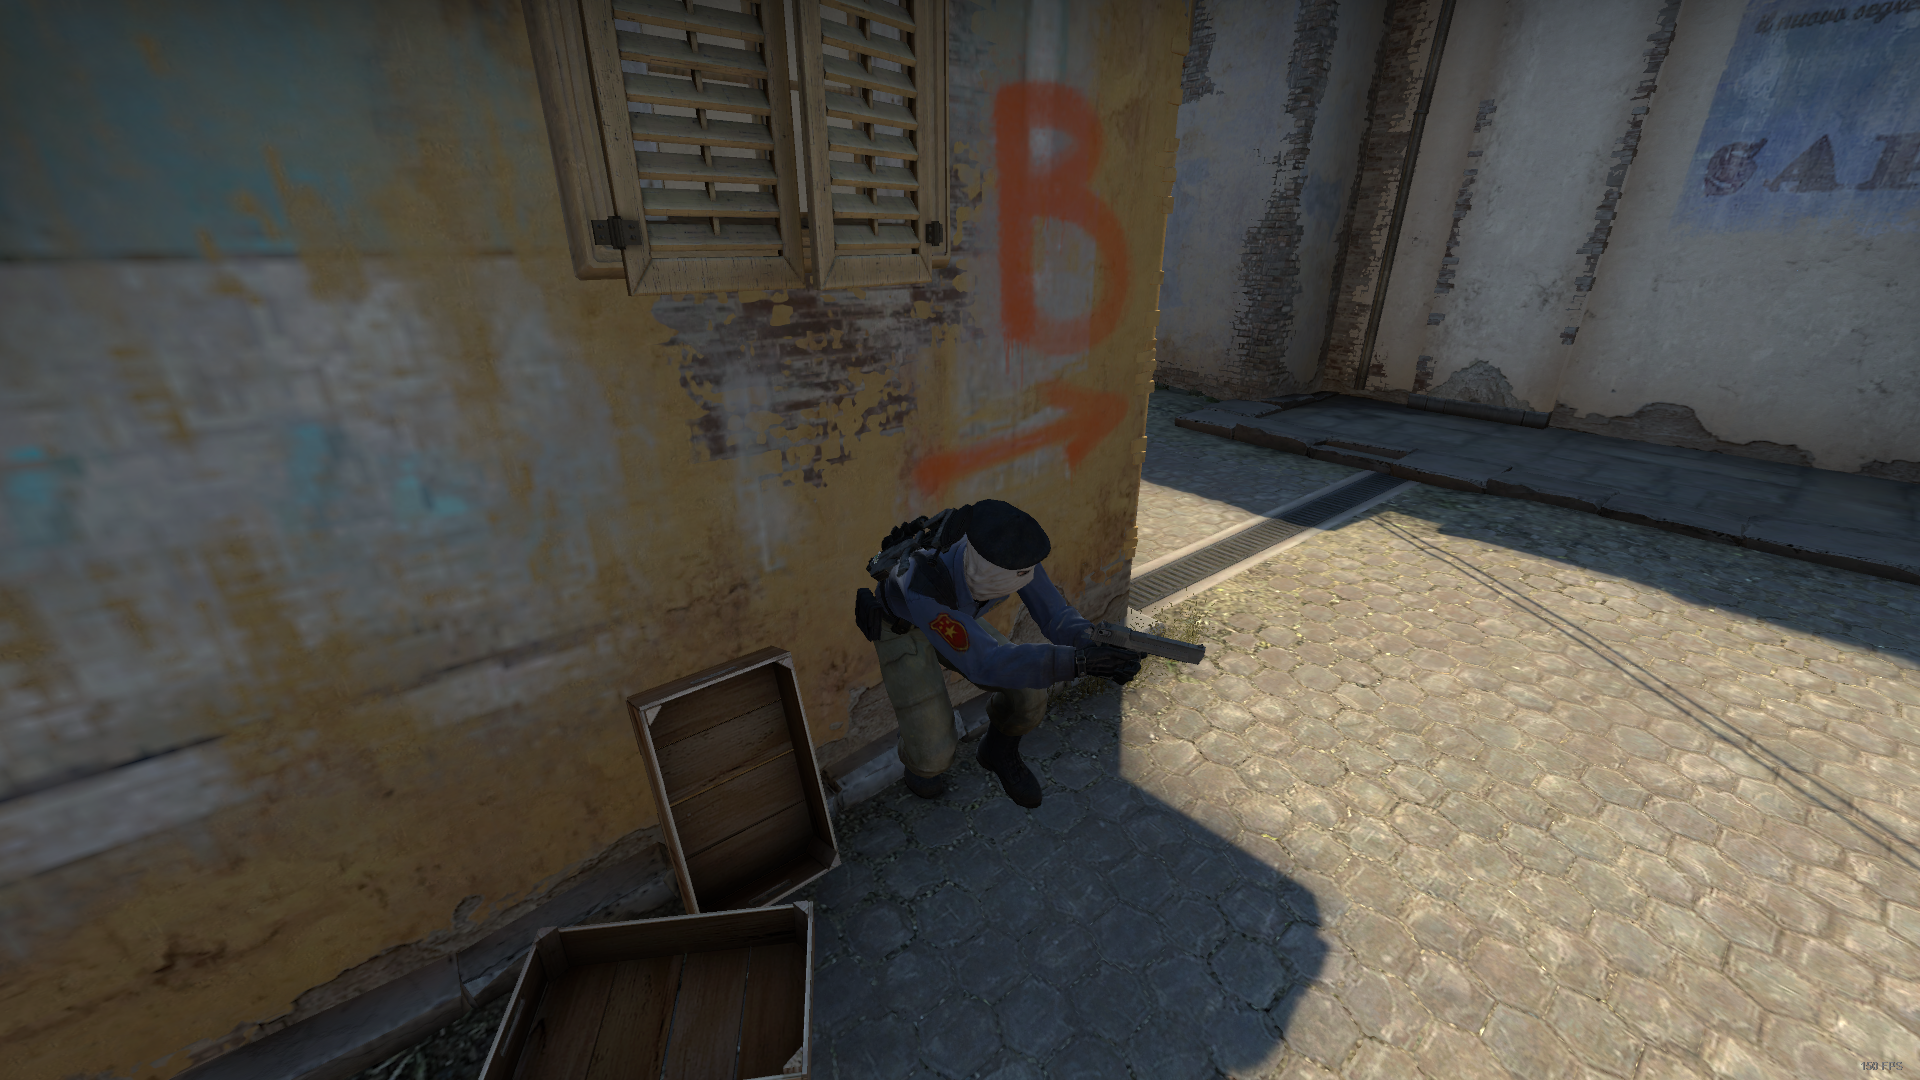t: (849, 498, 1081, 825)
